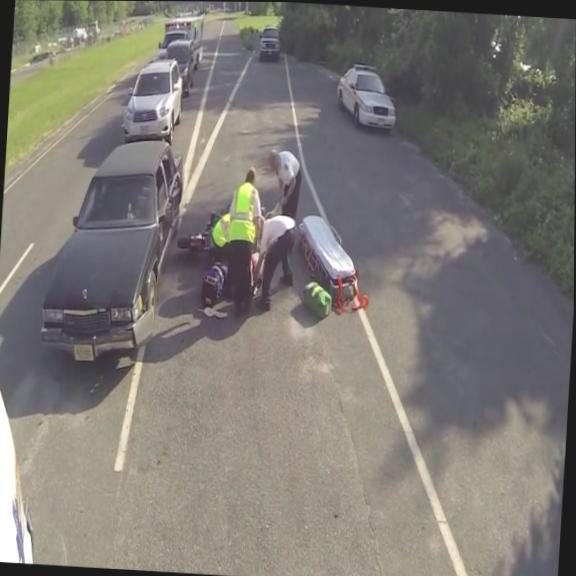safety_vest: (227, 182, 259, 241), (209, 213, 230, 248)
